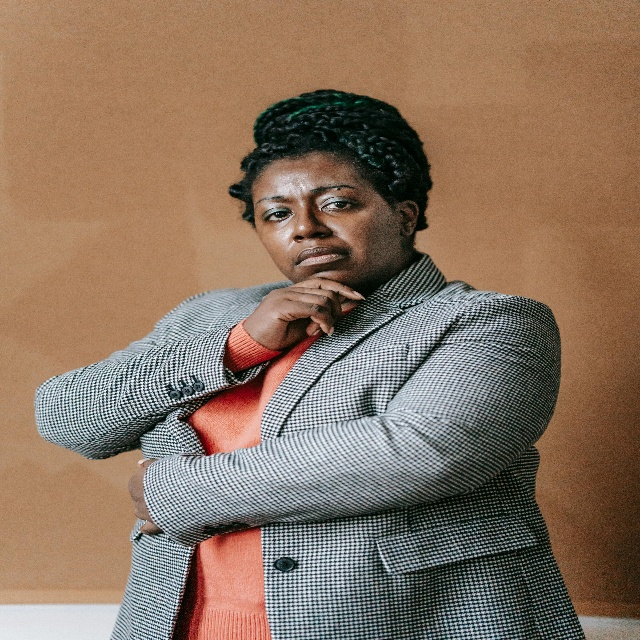Sin_guantes: (243, 278, 366, 351), (127, 458, 162, 536)
